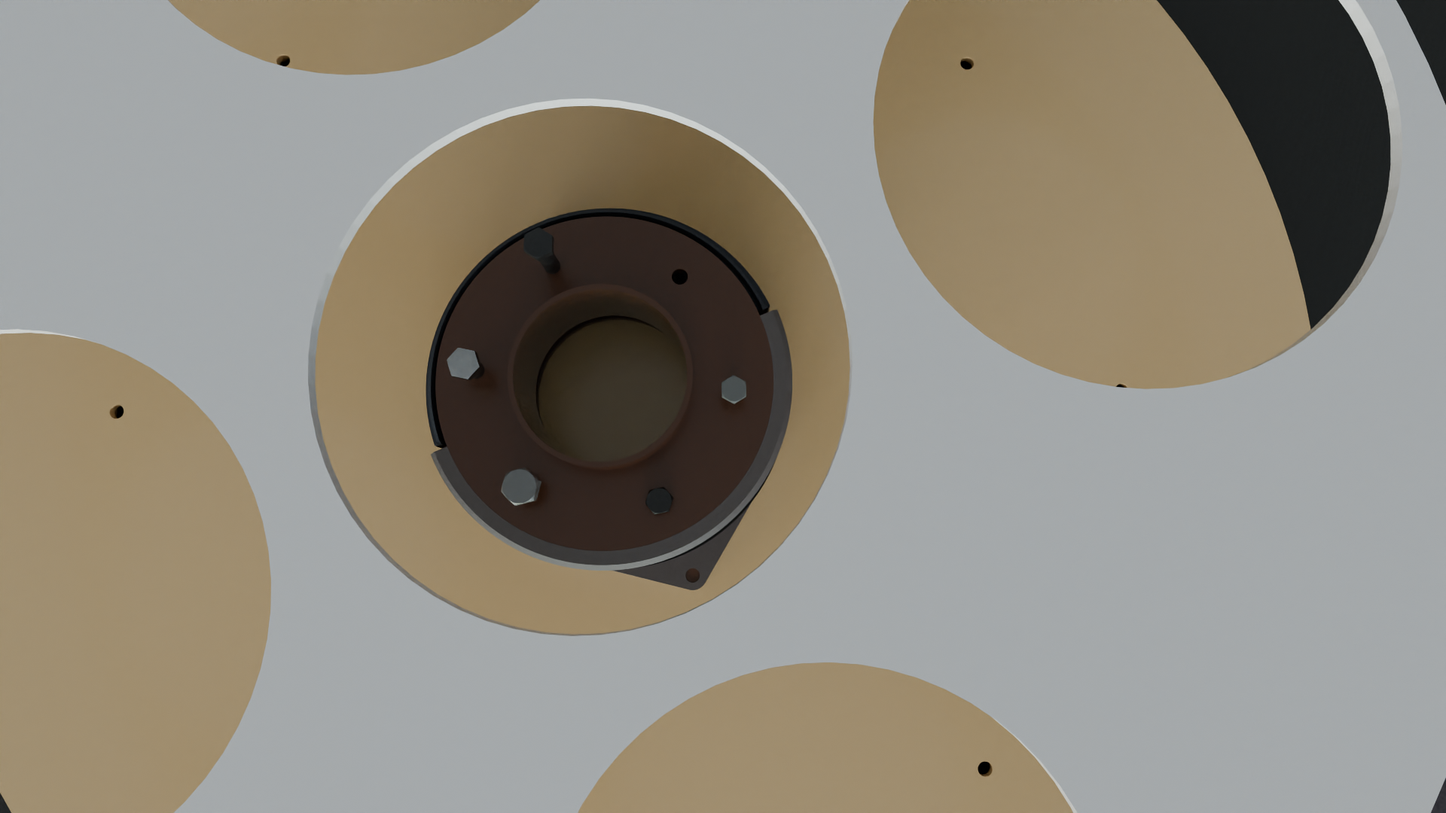bolt: (501, 467, 539, 505), (447, 348, 479, 379), (523, 227, 553, 259), (645, 487, 673, 514), (721, 375, 746, 403)
